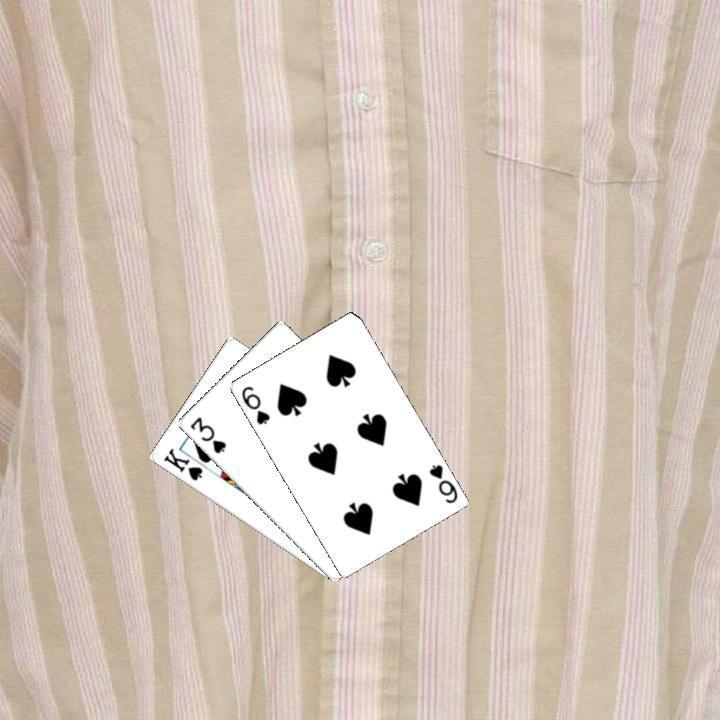3: (185, 412, 228, 456)
6: (236, 381, 272, 426), (424, 460, 459, 505)
K: (158, 444, 204, 483)
